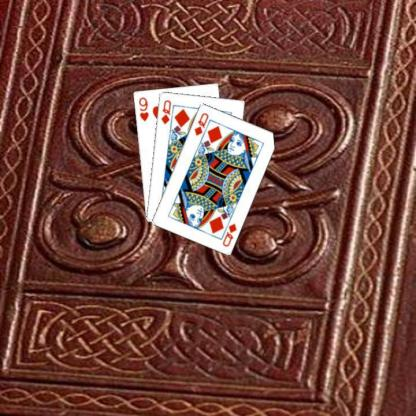9H: (136, 94, 150, 123)
QD: (192, 110, 210, 137), (220, 221, 238, 248), (158, 97, 172, 125)
